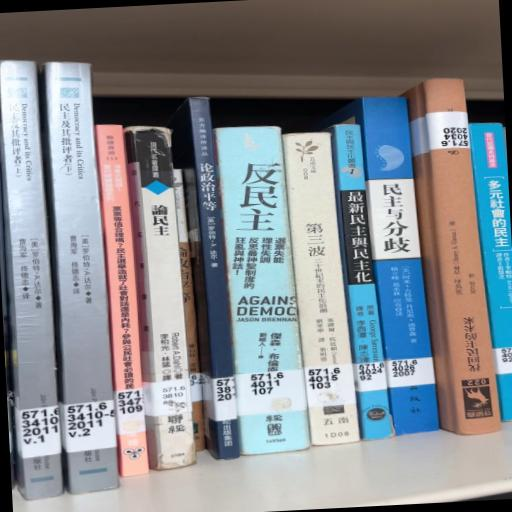book: (331, 99, 439, 435), (42, 63, 119, 495), (215, 127, 311, 456), (1, 62, 64, 501), (171, 98, 240, 461), (125, 127, 196, 471), (283, 133, 361, 446), (327, 125, 394, 441), (96, 126, 150, 477), (471, 124, 512, 422)
reverse: (401, 80, 501, 435)
